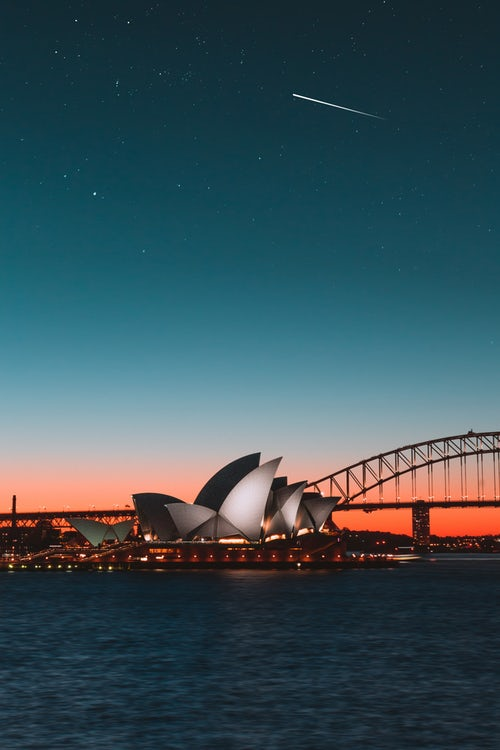opera house: (45, 430, 384, 577)
